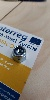Nut: (11, 44, 27, 65)
